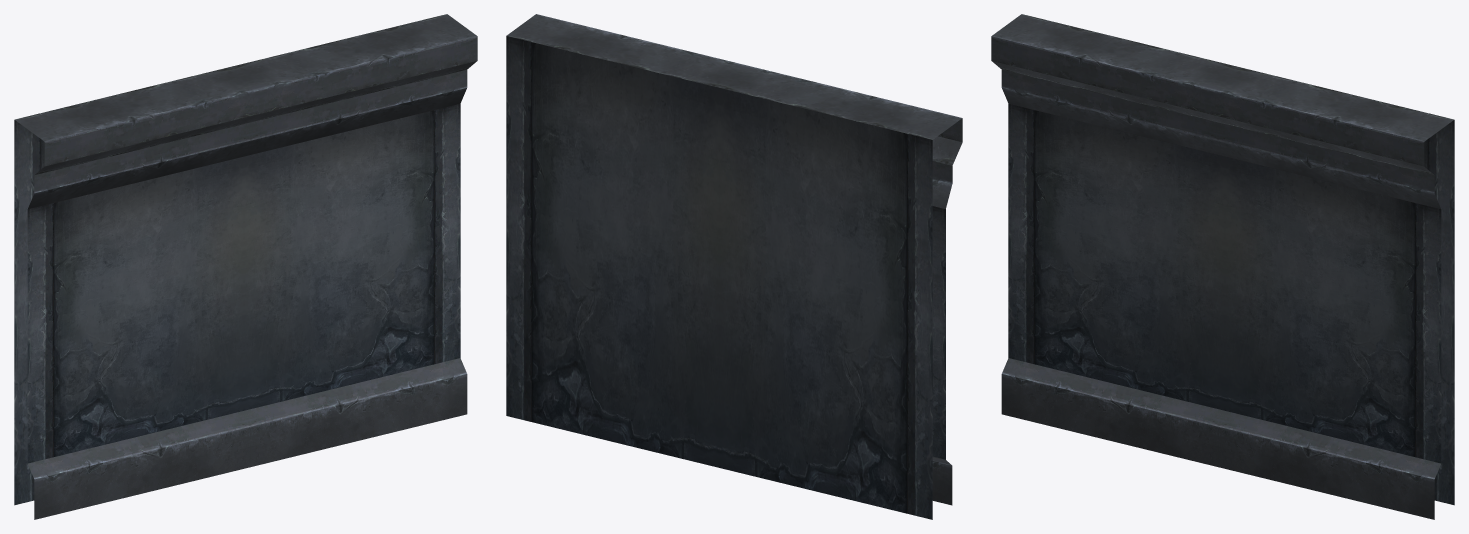
File: Z_qiangmian007.fbx
3 renders of one model, left to right at view 1: azimuth 30°, elevation 25°; view 2: azimuth 150°, elevation 25°; view 3: azimuth 330°, elevation 25°, orthographic.
Visible parts, largest first — view 1: Z_qiangmian007; view 2: Z_qiangmian007; view 3: Z_qiangmian007.
Part boxes in pixels (x1,y1,x2,y2): Z_qiangmian007: [14, 14, 477, 519]; Z_qiangmian007: [506, 14, 962, 519]; Z_qiangmian007: [991, 14, 1454, 519].
Bounding box in the file's own units: 615 × 524 × 74.64.
